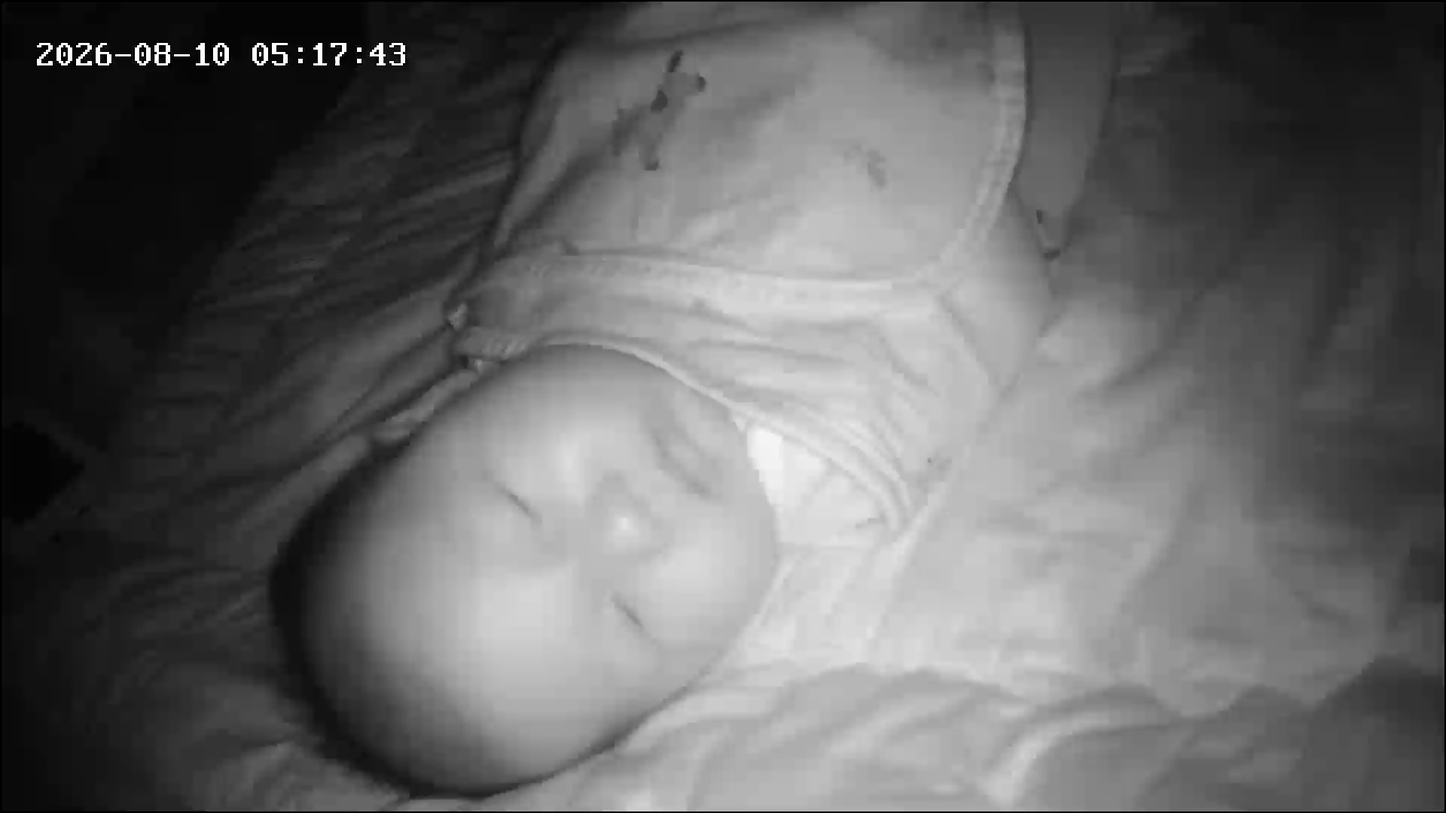baby: (271, 2, 1200, 809), (0, 13, 796, 809)
baby_face: (265, 328, 808, 807)
